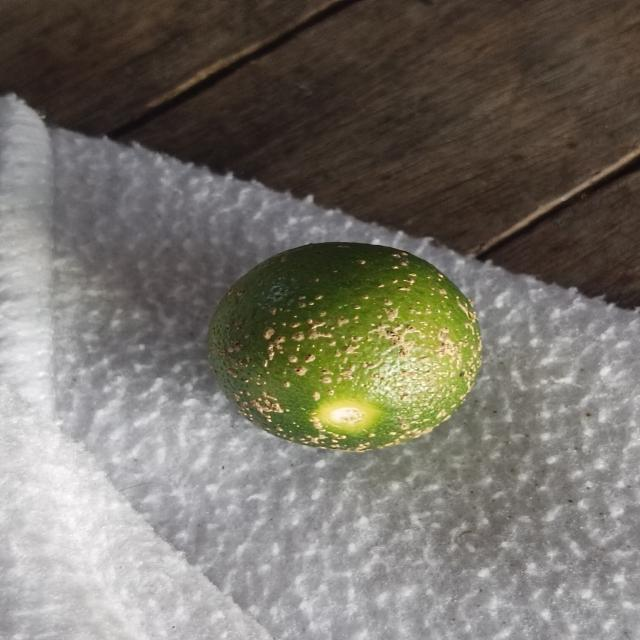scab: (206, 242, 482, 452)
